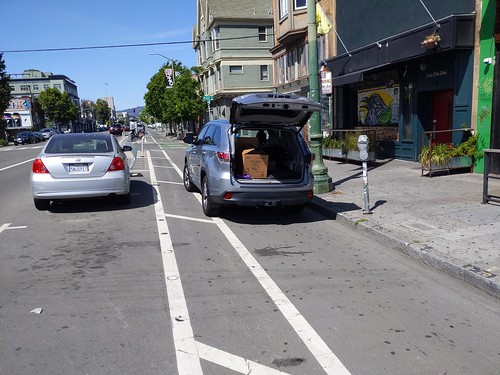building: (336, 1, 500, 157), (198, 1, 274, 137), (271, 1, 331, 134), (1, 69, 76, 139)
car: (181, 97, 320, 220), (33, 125, 131, 207)
sky: (1, 1, 195, 76)
street: (1, 133, 482, 375)
tree: (143, 55, 207, 137), (31, 83, 76, 130)
